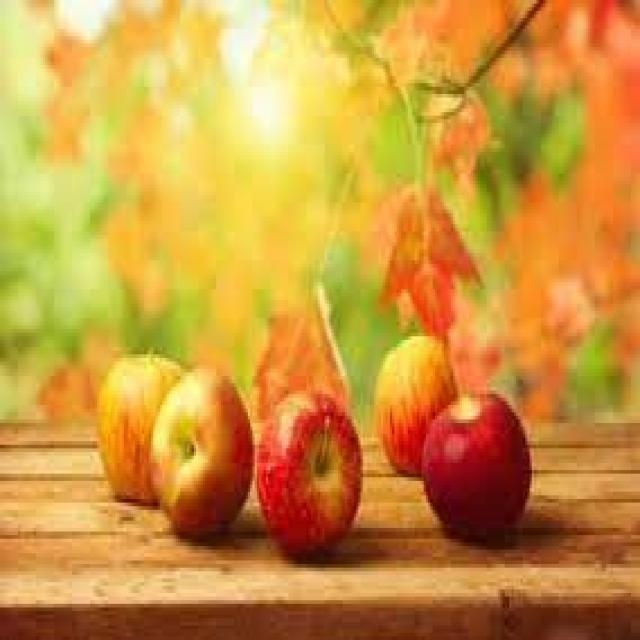agrume: (416, 360, 557, 559), (248, 377, 386, 567), (78, 310, 196, 513), (160, 306, 260, 537), (376, 317, 469, 460)
